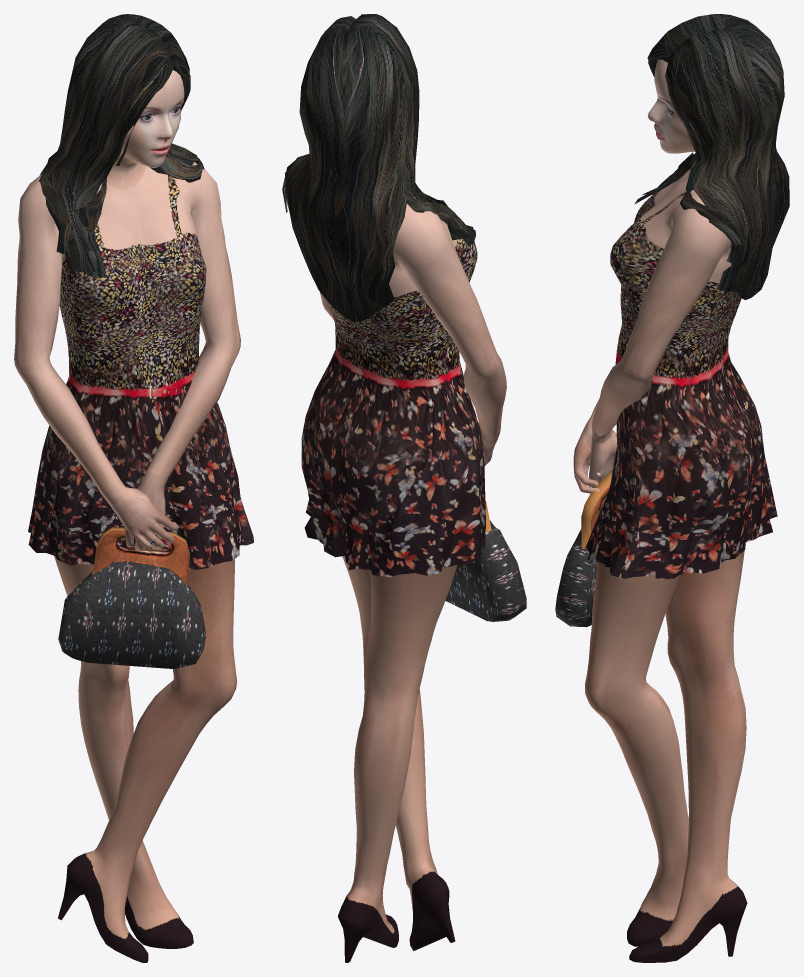
3 renders of one model, left to right at view 1: azimuth 30°, elevation 25°; view 2: azimuth 150°, elevation 25°; view 3: azimuth 270°, elevation 25°, orthographic. The views are drawn at different scales.
Visible parts, largest first — view 1: UA_Female12_6; view 2: UA_Female12_6; view 3: UA_Female12_6.
Part boxes in pixels (x1,y1,x2,y2): UA_Female12_6: (14,14,253,962); UA_Female12_6: (282,14,526,962); UA_Female12_6: (555,14,789,962).
Size of the model in its own units: 40.93 by 176 by 39.87.
4 materials, 4 textured.
